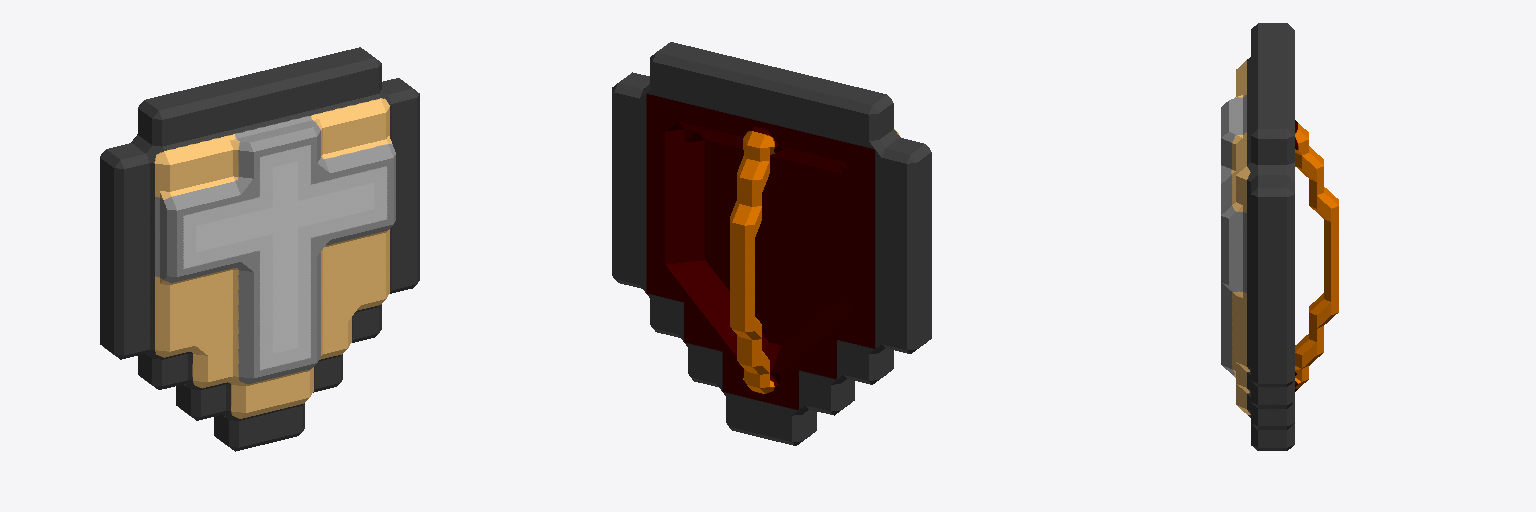
3 renders of one model, left to right at view 1: azimuth 30°, elevation 25°; view 2: azimuth 150°, elevation 25°; view 3: azimuth 270°, elevation 25°, orthographic.
Parts seen in each view (by area): view 1: node; view 2: node; view 3: node.
Part boxes in pixels (x1,y1,x2,y2): node: (100,47,419,451); node: (612,42,931,445); node: (1221,23,1338,450).
Bounding box in the file's own units: 24 × 27 × 8.
1 materials, 1 textured.